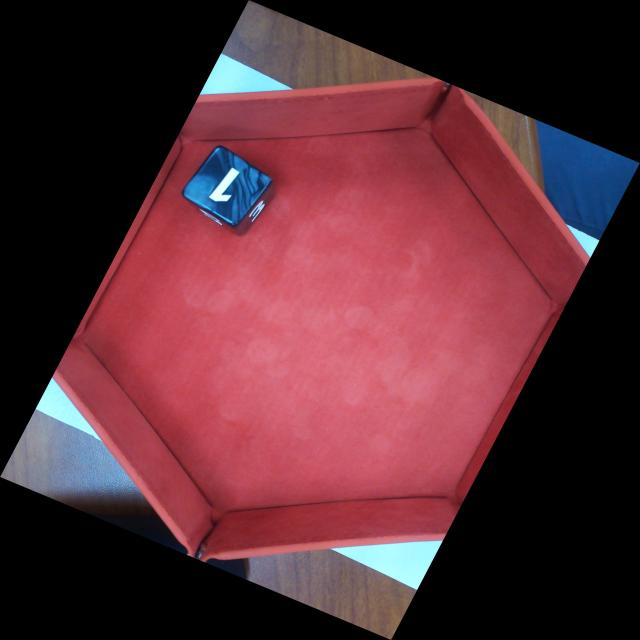dice: (181, 143, 275, 229)
